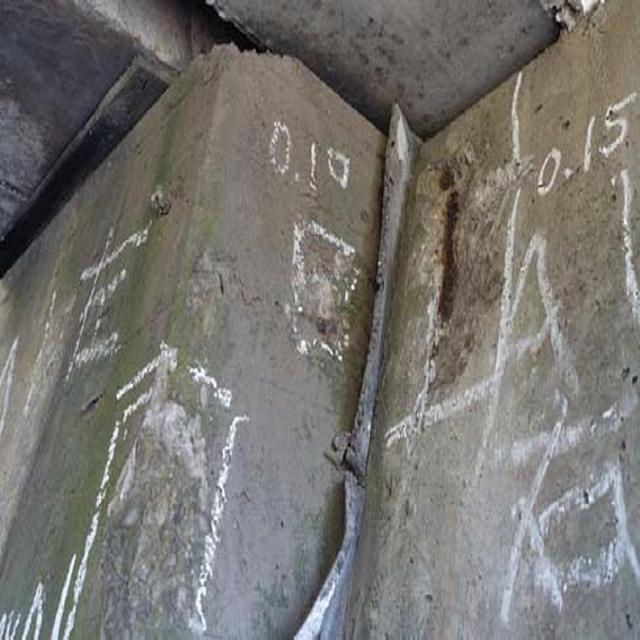spalling: (95, 377, 218, 622), (410, 156, 501, 406)
